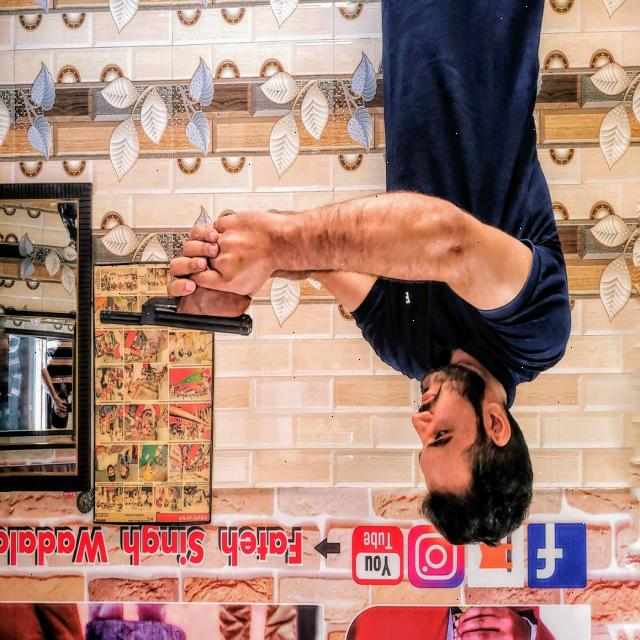gun: (96, 215, 268, 352)
